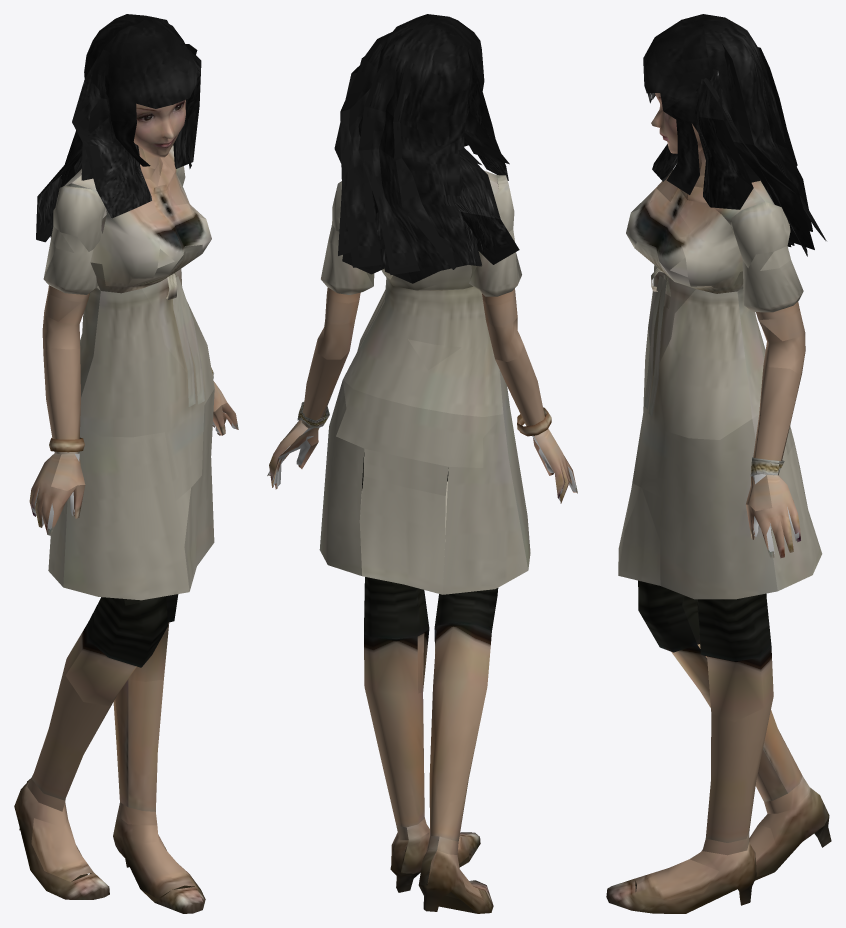
The model's file is girl5.gltf.
3 views of the same model, side by side, from view 1: azimuth 30°, elevation 25°; view 2: azimuth 150°, elevation 25°; view 3: azimuth 270°, elevation 25° (orthographic). The views are drawn at different scales.
Visible parts, largest first — view 1: node-0; view 2: node-0; view 3: node-0.
Part boxes in pixels (left/top/right/bottom): node-0: left=14, top=14, right=238, bottom=913; node-0: left=267, top=14, right=577, bottom=913; node-0: left=606, top=14, right=831, bottom=913.
Size of the model in its own units: 0.5268 by 1.73 by 0.3998.
4 materials, 3 textured.
